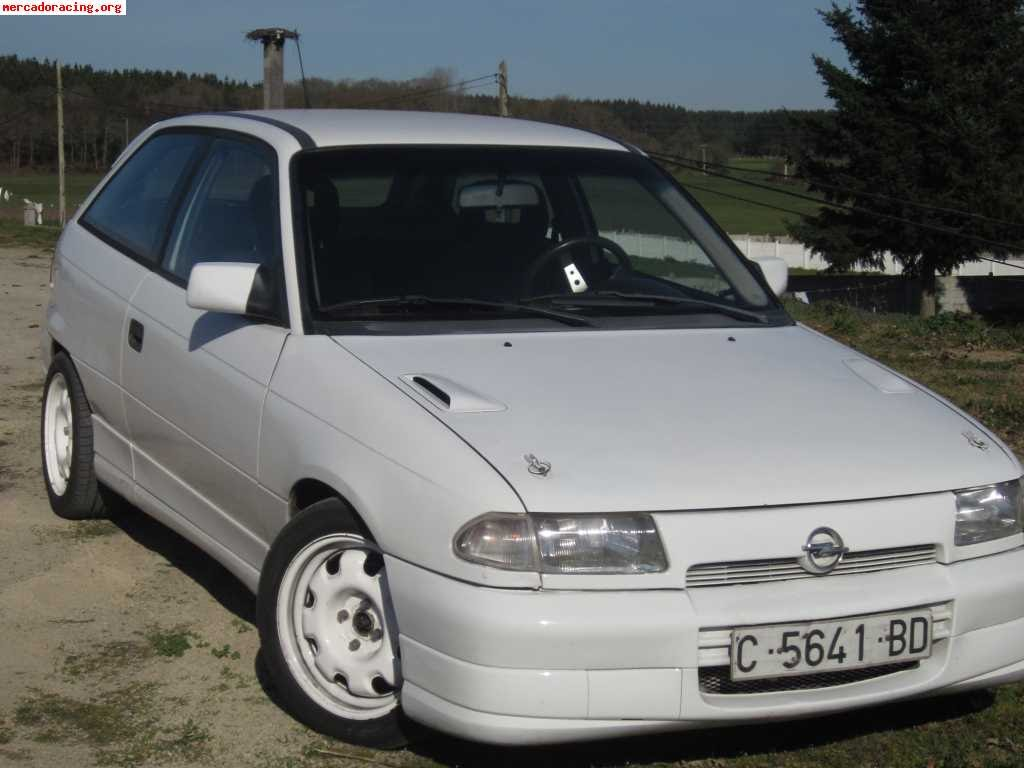car: (15, 64, 1020, 763)
